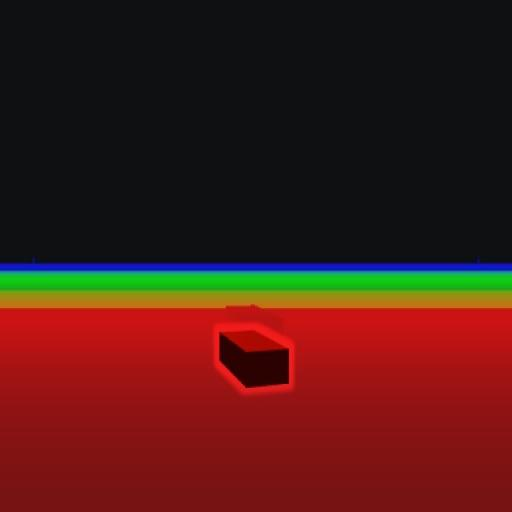debris_container: (217, 326, 291, 388)
